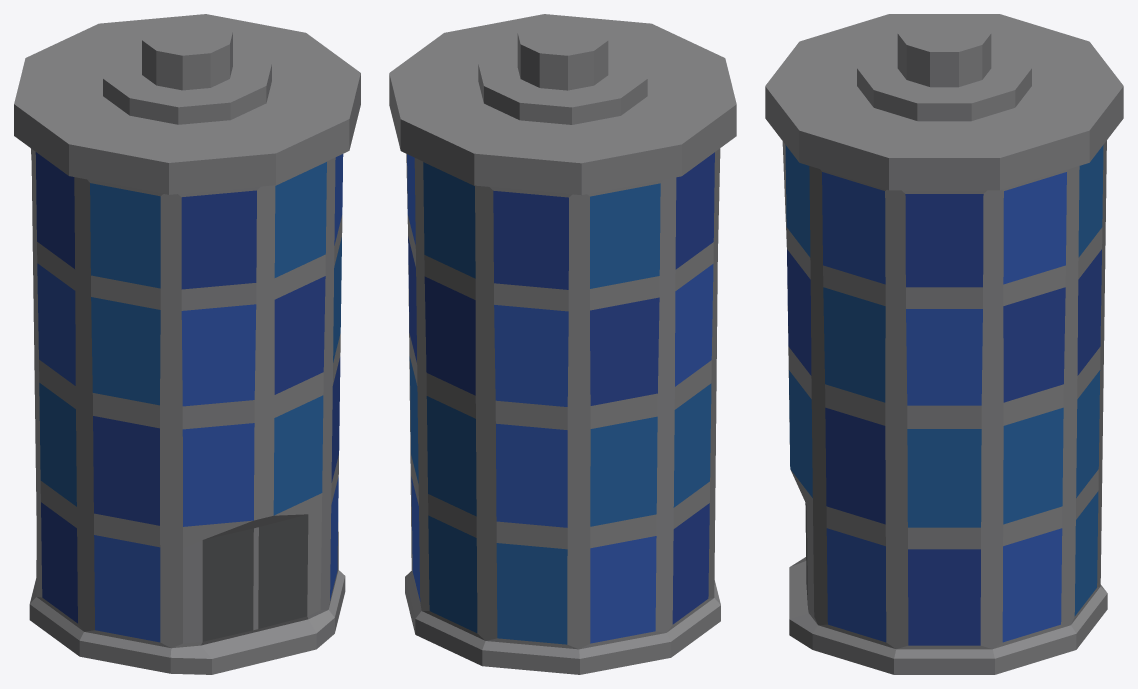
The model's file is HighHouse 2.1.fbx.
3 views of the same model, side by side, from view 1: azimuth 30°, elevation 25°; view 2: azimuth 150°, elevation 25°; view 3: azimuth 270°, elevation 25° (orthographic).
Parts seen in each view (by area): view 1: HighHouse_2_01; view 2: HighHouse_2_01; view 3: HighHouse_2_01.
Boxes of the visible parts, bbox=[...] form: HighHouse_2_01: bbox=[14, 14, 360, 674]; HighHouse_2_01: bbox=[389, 14, 736, 674]; HighHouse_2_01: bbox=[765, 14, 1123, 674].
Size of the model in its own units: 437 by 814 by 459.
